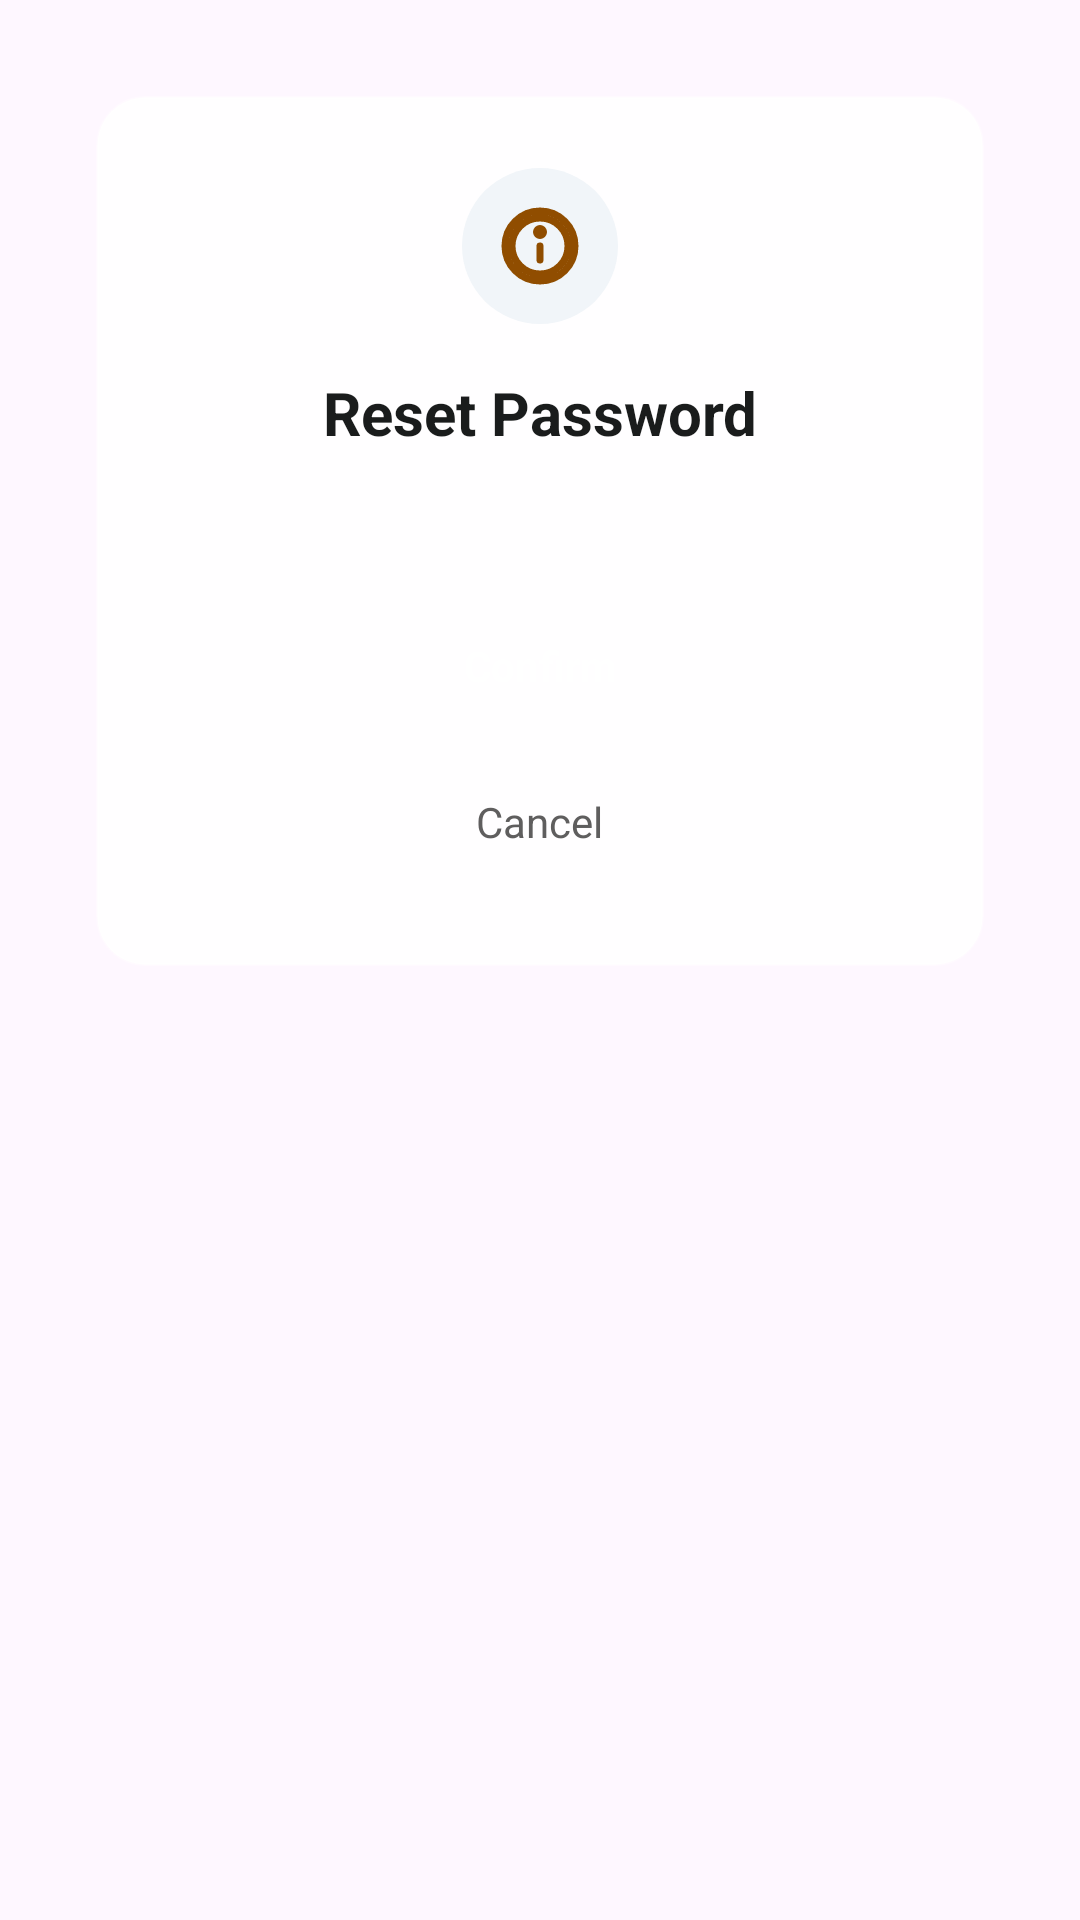

Where to tap for icons on this 1080x1920 app screen, as (x=x, y=y):
info: (x=540, y=246)
